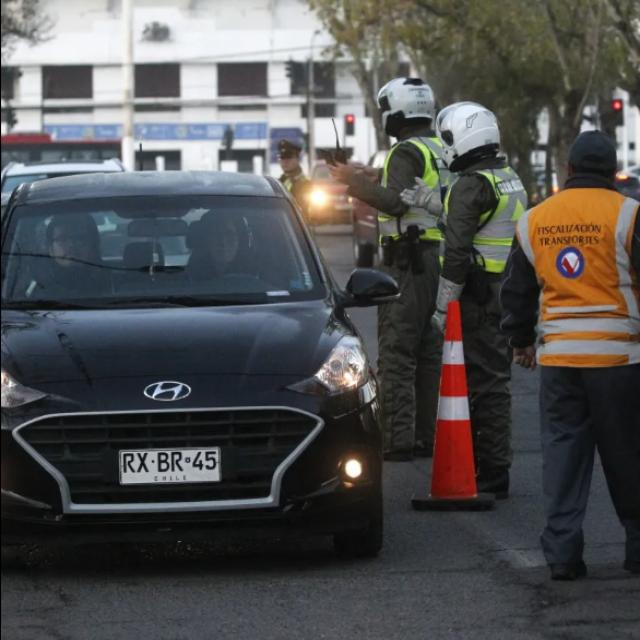patente: (117, 446, 222, 486)
